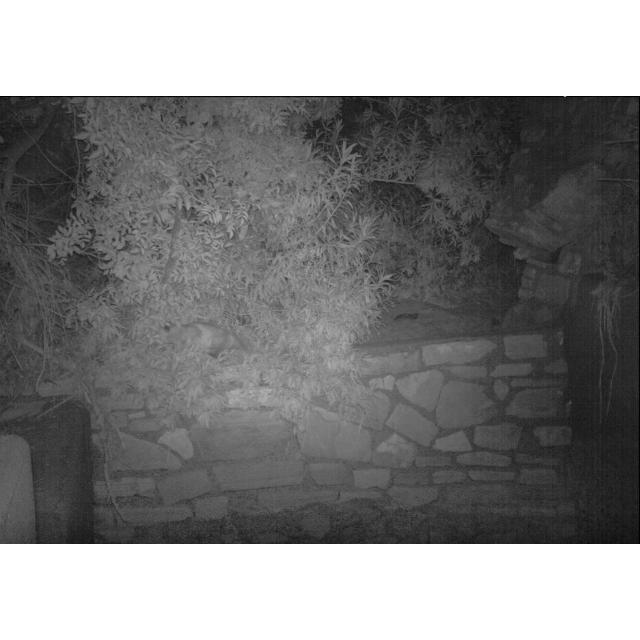animals: (167, 322, 246, 362)
